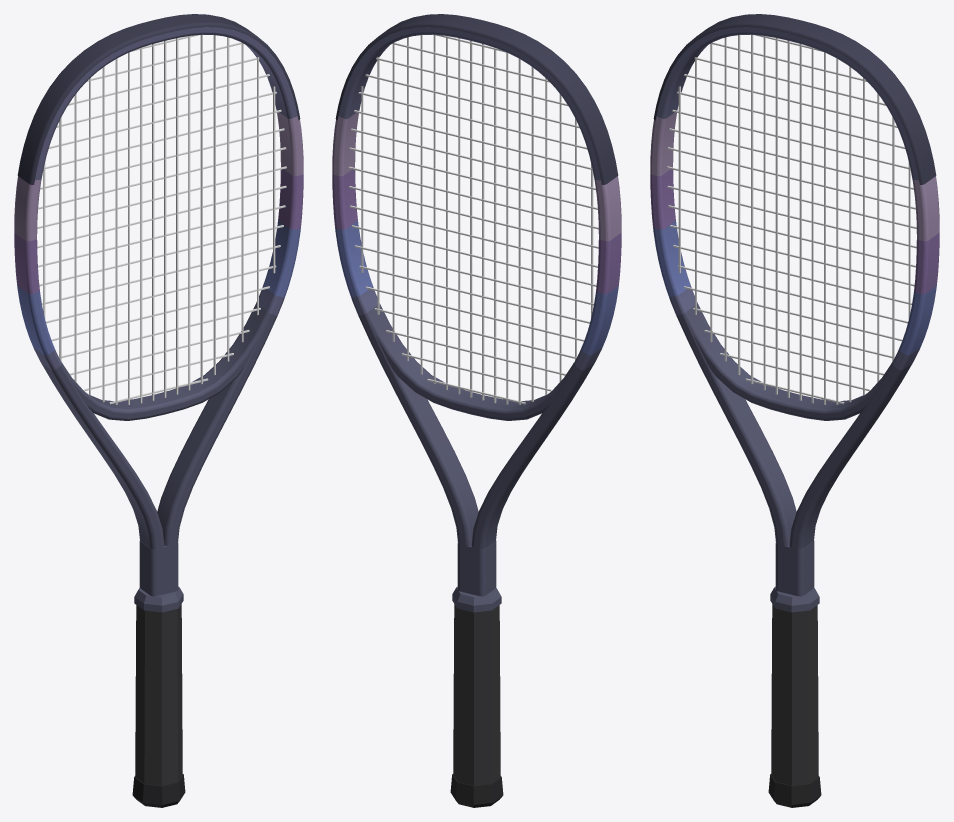
The model's file is yonex-percept-100d-2023.glb.
3 views of the same model, side by side, from view 1: azimuth 30°, elevation 25°; view 2: azimuth 150°, elevation 25°; view 3: azimuth 330°, elevation 25° (orthographic).
Parts seen in each view (by area): view 1: frame, strings_mains, strings_crosses, grip, bumper, butt_cap, collar; view 2: frame, strings_mains, strings_crosses, grip, bumper, butt_cap, collar; view 3: frame, strings_mains, strings_crosses, grip, bumper, butt_cap, collar.
Boxes of the visible parts, left/top/right/bottom form: frame: left=14, top=27, right=303, bottom=596; strings_mains: left=43, top=34, right=275, bottom=404; strings_crosses: left=37, top=35, right=286, bottom=404; grip: left=135, top=604, right=182, bottom=785; bumper: left=17, top=14, right=300, bottom=184; butt_cap: left=132, top=774, right=185, bottom=807; collar: left=134, top=586, right=183, bottom=612; frame: left=332, top=27, right=621, bottom=596; strings_mains: left=361, top=35, right=593, bottom=404; strings_crosses: left=348, top=35, right=598, bottom=404; grip: left=453, top=604, right=500, bottom=785; bumper: left=335, top=14, right=618, bottom=184; butt_cap: left=450, top=774, right=503, bottom=807; collar: left=452, top=586, right=501, bottom=612; frame: left=650, top=27, right=939, bottom=596; strings_mains: left=678, top=34, right=910, bottom=404; strings_crosses: left=667, top=35, right=916, bottom=404; grip: left=771, top=604, right=818, bottom=785; bumper: left=653, top=14, right=936, bottom=184; butt_cap: left=768, top=774, right=821, bottom=807; collar: left=770, top=586, right=819, bottom=612.
Bounding box in the file's own units: 0.2583 × 0.6861 × 0.0396.
